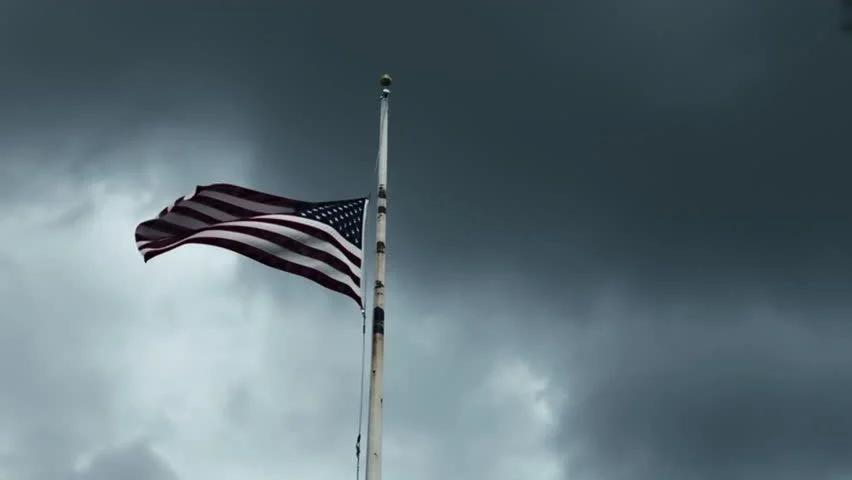America flag: (134, 186, 374, 310)
